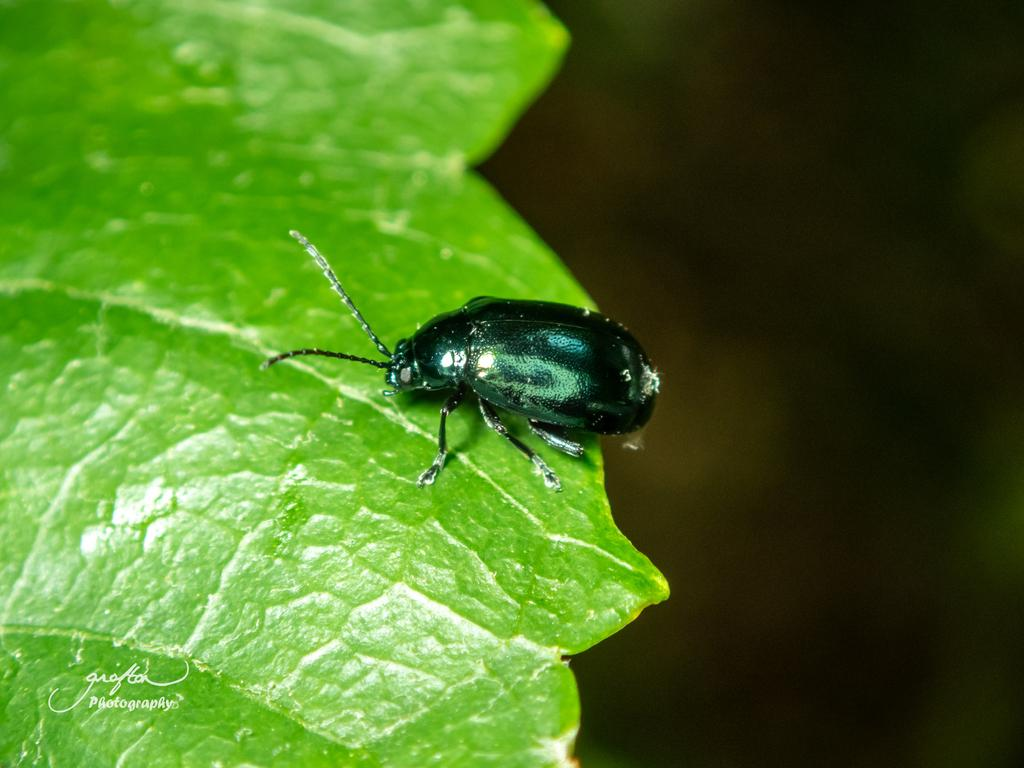flea_beetle: (234, 204, 703, 539)
